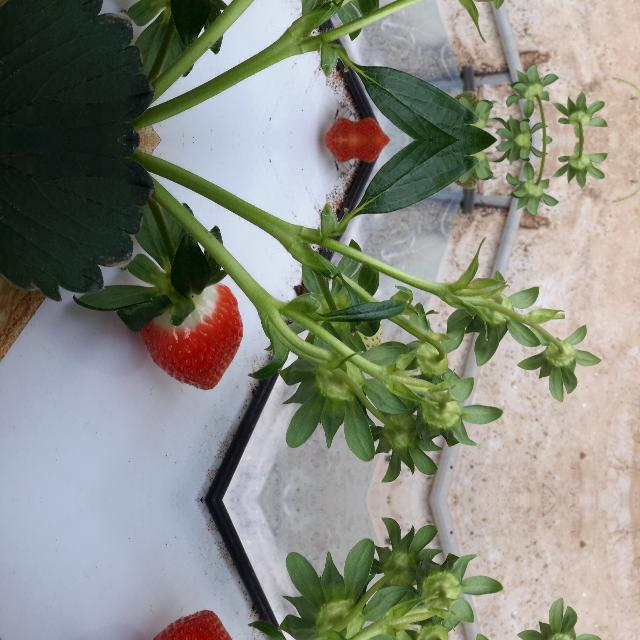Health_100: (138, 282, 244, 390), (138, 610, 243, 640)
